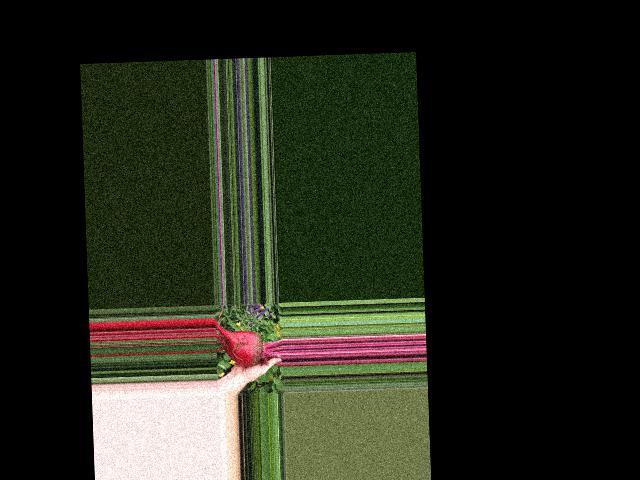beet: (214, 316, 282, 367)
